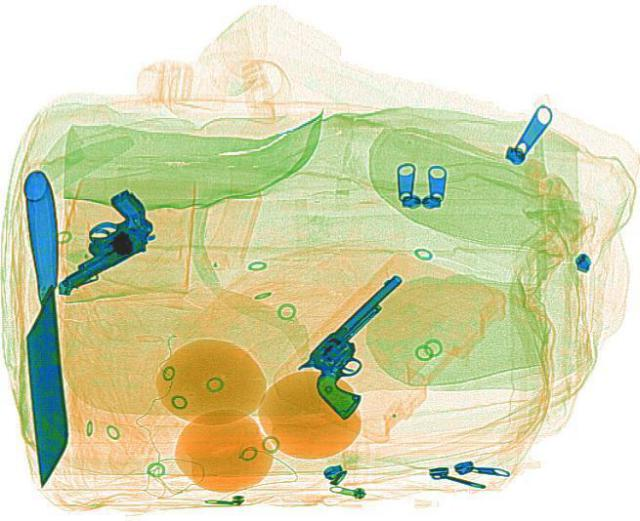Gun: (277, 272, 458, 419), (20, 187, 174, 290)
Knife: (18, 169, 66, 486)
